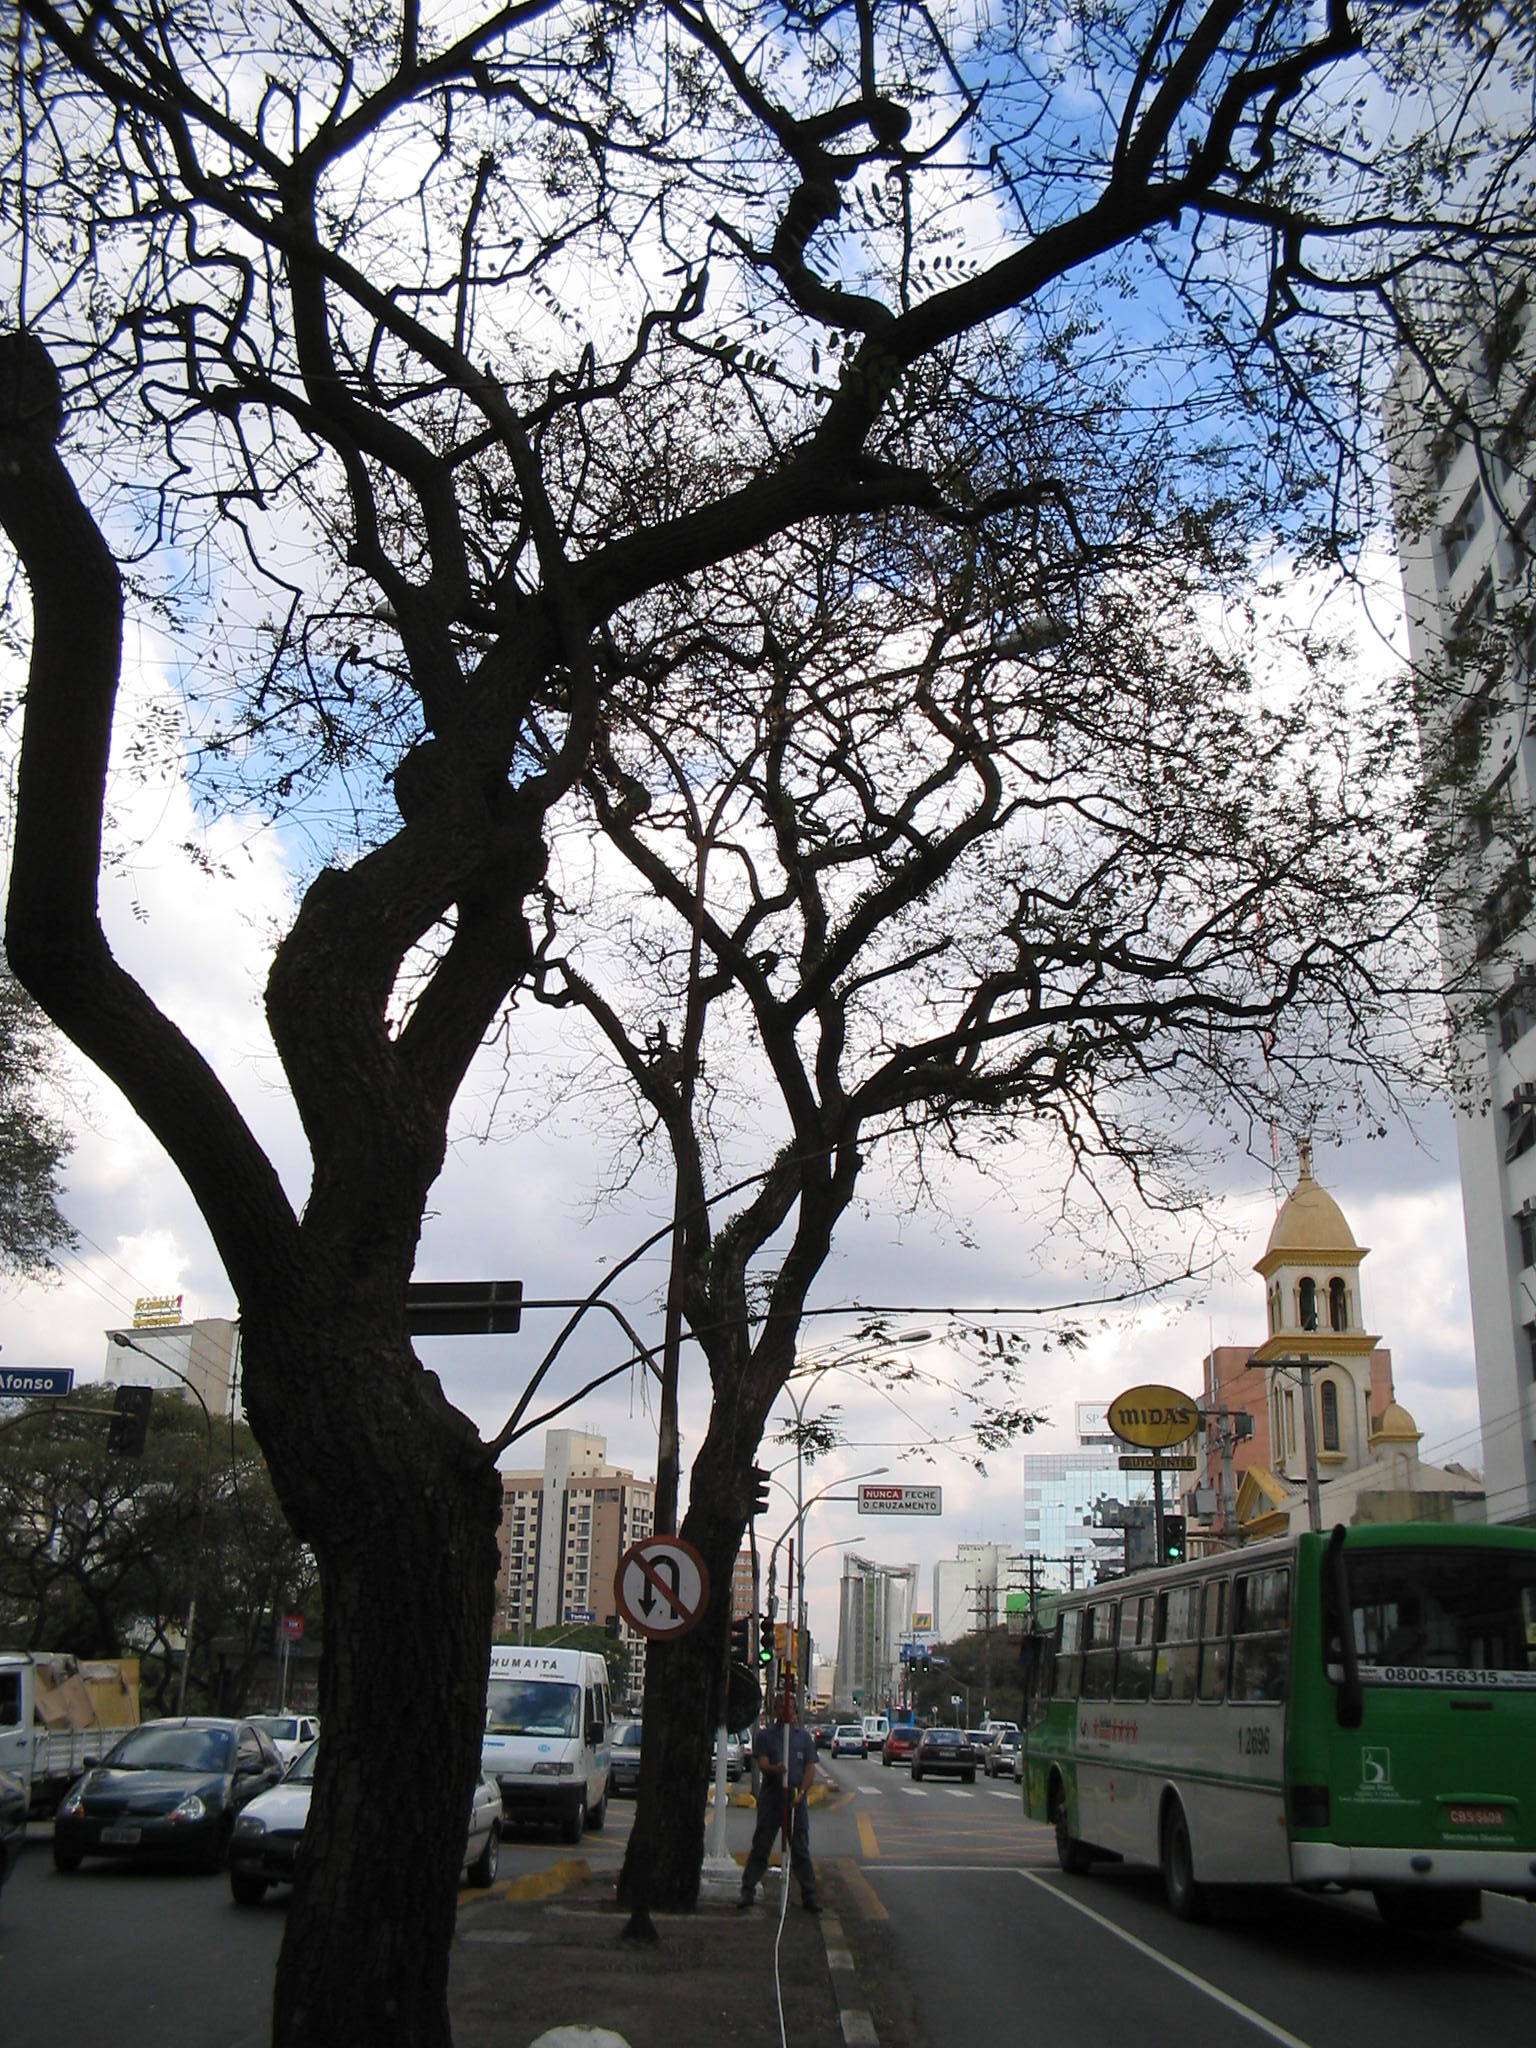stem: (600, 1409, 770, 1911)
stick: (763, 1526, 803, 1901)
tree: (163, 348, 1530, 1911)
